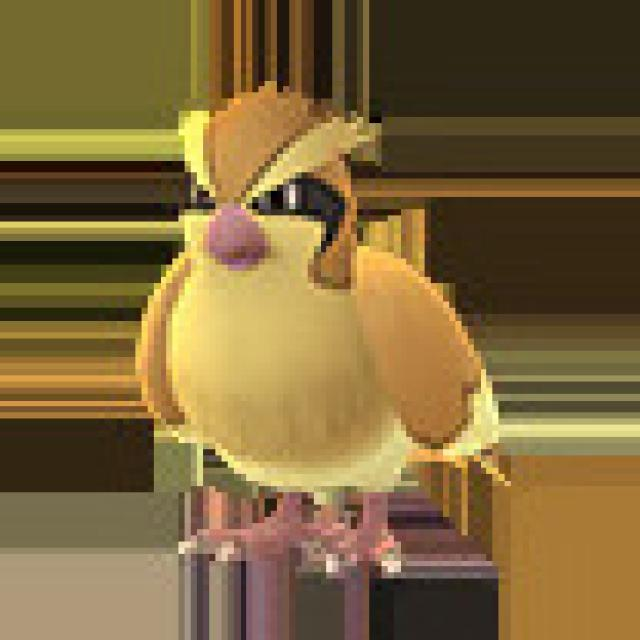Pidgey: (140, 77, 512, 576)
